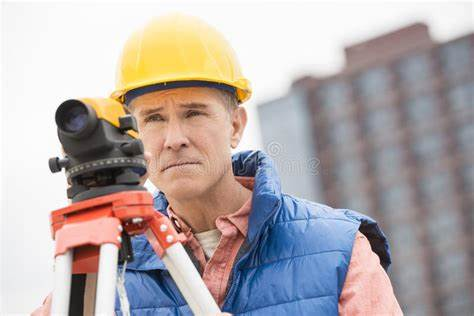safetyhat: (79, 15, 355, 305)
